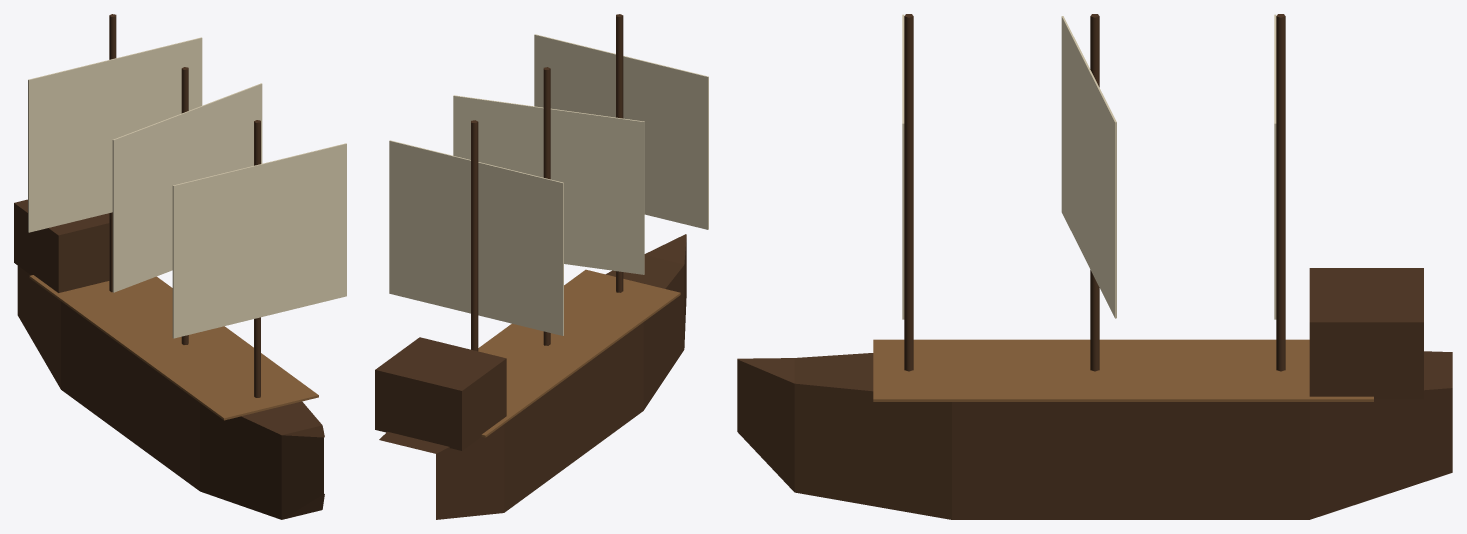
The model's file is veh_naval_merchant_a04_lod2.glb.
The picture shows the model from 3 angles, left to right: view 1: azimuth 30°, elevation 25°; view 2: azimuth 150°, elevation 25°; view 3: azimuth 270°, elevation 25°; orthographic projection. The views are drawn at different scales.
Parts seen in each view (by area): view 1: body, sail_2, sail_0, sail_1; view 2: body, sail_0, sail_1, sail_2; view 3: body, sail_1, sail_0, sail_2.
Part boxes in pixels (left/top/right/bottom): body: left=14, top=14, right=324, bottom=519; sail_2: left=172, top=143, right=346, bottom=338; sail_0: left=28, top=37, right=202, bottom=232; sail_1: left=112, top=83, right=262, bottom=292; body: left=375, top=14, right=686, bottom=519; sail_0: left=389, top=140, right=563, bottom=335; sail_1: left=453, top=95, right=644, bottom=274; sail_2: left=534, top=34, right=708, bottom=229; body: left=737, top=14, right=1452, bottom=519; sail_1: left=1061, top=16, right=1116, bottom=318; sail_0: left=1274, top=14, right=1276, bottom=319; sail_2: left=902, top=14, right=904, bottom=319.
Size of the model in its own units: 6.77 by 13.88 by 18.8.
